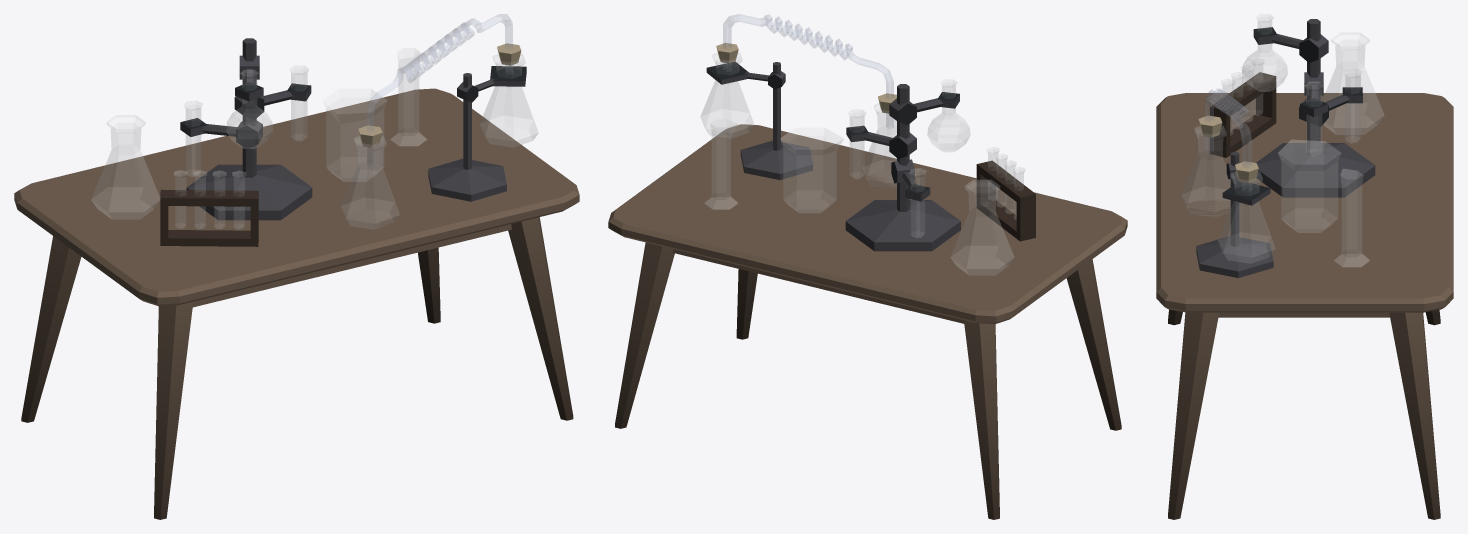
The model's file is Chemistry.fbx.
3 views of the same model, side by side, from view 1: azimuth 30°, elevation 25°; view 2: azimuth 150°, elevation 25°; view 3: azimuth 270°, elevation 25° (orthographic). The views are drawn at different scales.
Visible parts, largest first — view 1: Table1, ChemStand2, ChemStand1, TestTubes, EFlask1, Beaker1, Beaker2; view 2: Table1, ChemStand1, ChemStand2, Beaker1, TestTubes, EFlask1, Beaker2; view 3: Table1, ChemStand1, ChemStand2, Beaker1, TestTubes, EFlask1, Beaker2.
Boxes of the visible parts, x1=… form: Table1: x1=14, y1=88, x2=579, y2=519; ChemStand2: x1=341, y1=14, x2=538, y2=229; ChemStand1: x1=180, y1=38, x2=312, y2=220; TestTubes: x1=160, y1=170, x2=258, y2=246; EFlask1: x1=91, y1=115, x2=159, y2=219; Beaker1: x1=323, y1=89, x2=387, y2=181; Beaker2: x1=390, y1=48, x2=426, y2=145; Table1: x1=608, y1=124, x2=1127, y2=519; ChemStand1: x1=845, y1=79, x2=970, y2=251; ChemStand2: x1=700, y1=14, x2=915, y2=188; Beaker1: x1=780, y1=128, x2=843, y2=212; TestTubes: x1=976, y1=147, x2=1035, y2=241; EFlask1: x1=950, y1=180, x2=1014, y2=275; Beaker2: x1=705, y1=119, x2=737, y2=209; Table1: x1=1156, y1=93, x2=1453, y2=519; ChemStand1: x1=1242, y1=14, x2=1375, y2=197; ChemStand2: x1=1181, y1=88, x2=1275, y2=277; Beaker1: x1=1278, y1=140, x2=1341, y2=232; TestTubes: x1=1210, y1=58, x2=1276, y2=157; EFlask1: x1=1322, y1=32, x2=1384, y2=134; Beaker2: x1=1334, y1=169, x2=1369, y2=266.
Bounding box in the file's own units: 161 × 137 × 96.77.
